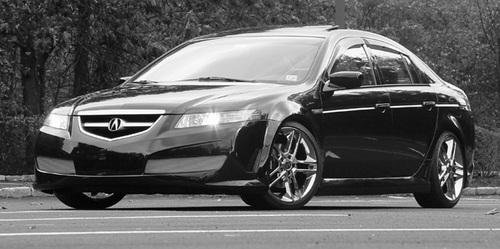car: (32, 26, 475, 213)
